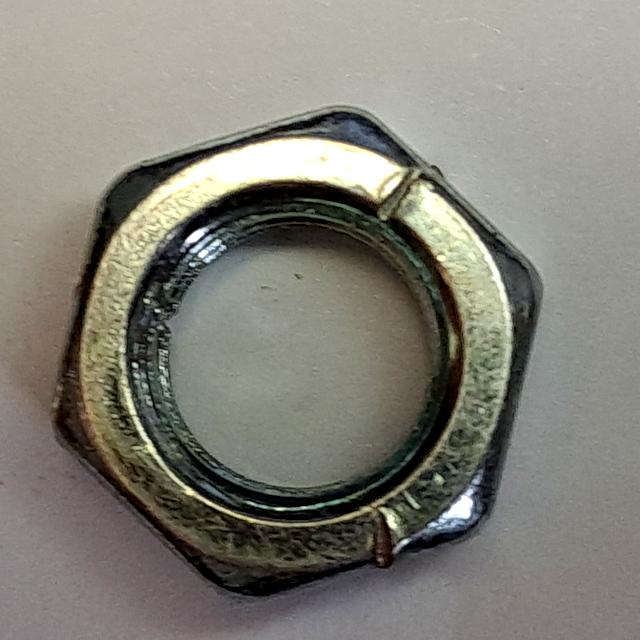Scratches: (38, 100, 559, 610)
